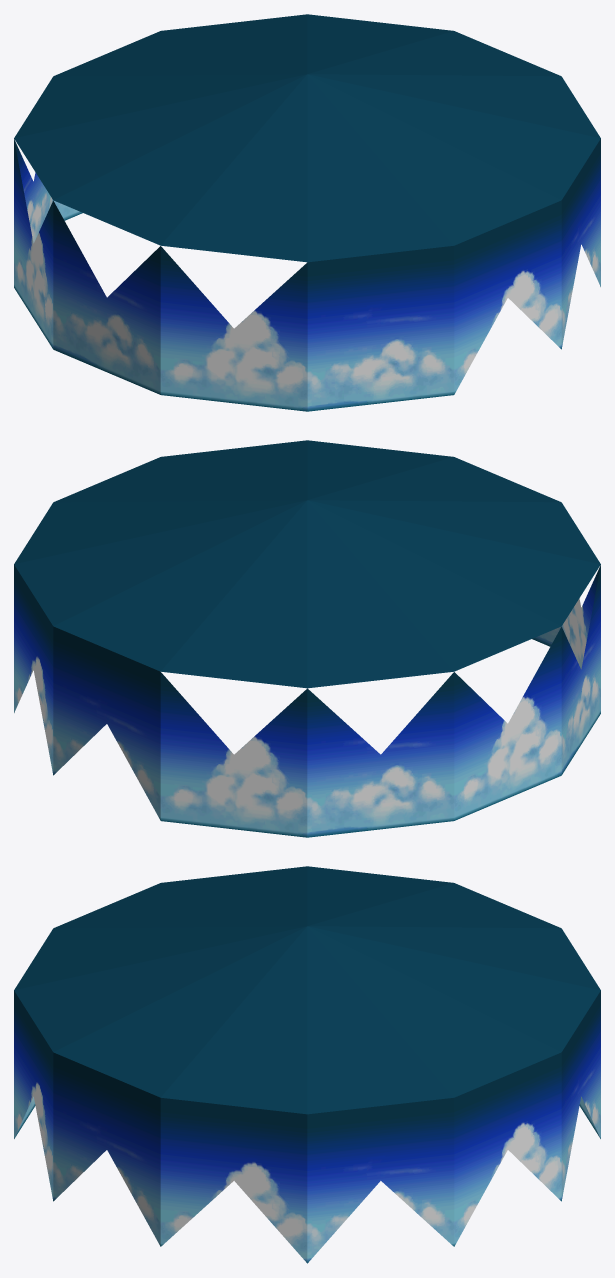
The model's file is mini_stage3-mini_stage3_V.glb.
The picture shows the model from 3 angles, top to bottom: view 1: azimuth 30°, elevation 25°; view 2: azimuth 150°, elevation 25°; view 3: azimuth 270°, elevation 25°; orthographic projection.
Visible parts, largest first — view 1: mini_stage3_V; view 2: mini_stage3_V; view 3: mini_stage3_V.
Part boxes in pixels (<box>): mini_stage3_V: <box>14,14,600,411</box>; mini_stage3_V: <box>14,440,600,837</box>; mini_stage3_V: <box>14,866,600,1263</box>.
Bounding box in the file's own units: 375 × 150 × 375.
1 material, 1 textured.
